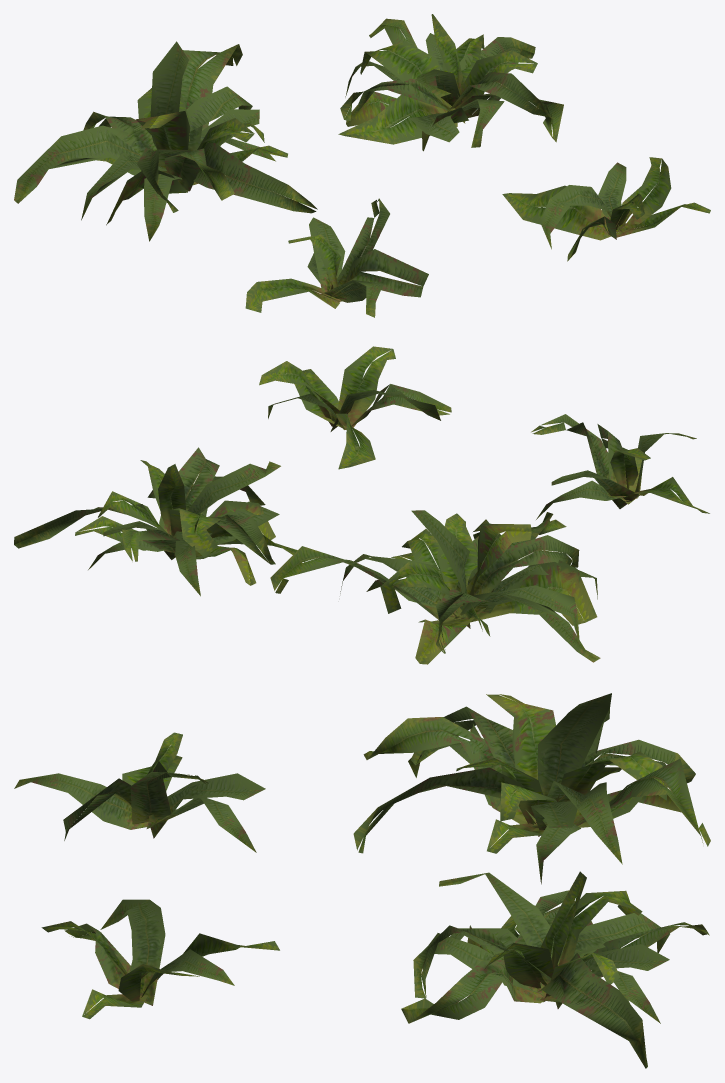
The model's file is fern_02_lod1.gltf.
3 renders of one model, top to bottom at view 1: azimuth 30°, elevation 25°; view 2: azimuth 150°, elevation 25°; view 3: azimuth 270°, elevation 25°, orthographic. The views are drawn at different scales.
Parts seen in each view (by area): view 1: fern_02_lod1; view 2: fern_02_lod1; view 3: fern_02_lod1.
Boxes of the visible parts, left/top/right/bottom form: fern_02_lod1: left=14, top=14, right=710, bottom=317; fern_02_lod1: left=14, top=346, right=709, bottom=664; fern_02_lod1: left=14, top=693, right=710, bottom=1068.
Bounding box in the file's own units: 1.97 × 0.4377 × 1.72.
1 material, 1 textured.
